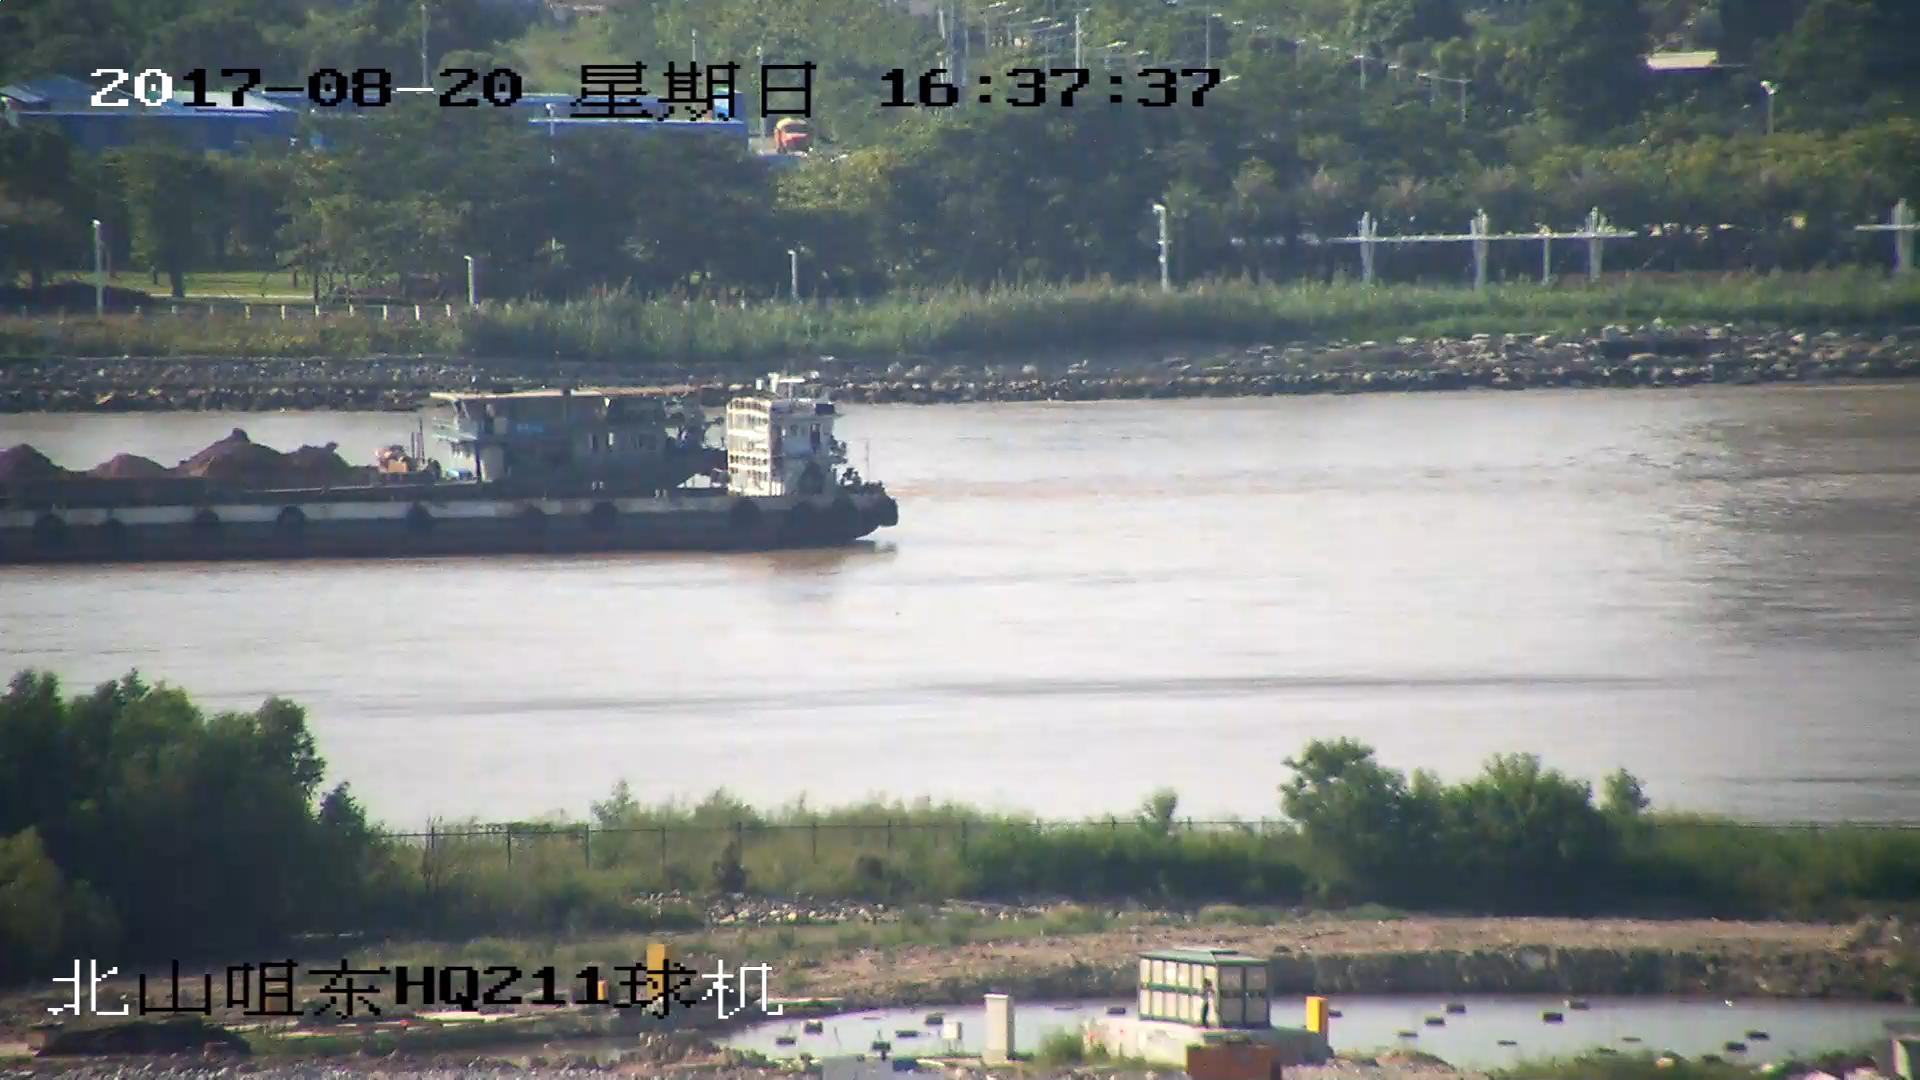Ship: (3, 382, 899, 559), (3, 396, 720, 502)
